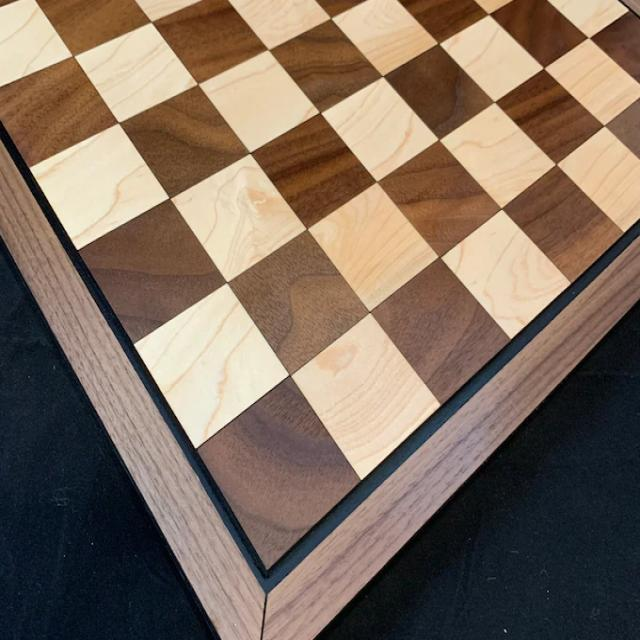chess-table-corners: (224, 528, 301, 580)
